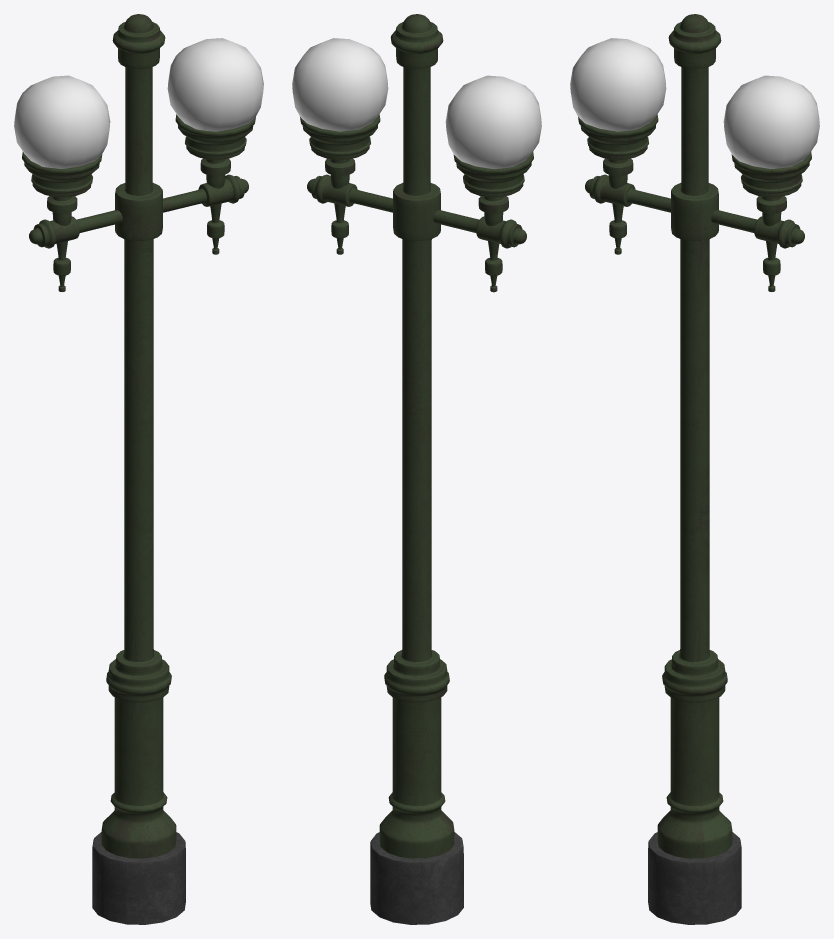
The model's file is PARK LIGHT.fbx.
3 views of the same model, side by side, from view 1: azimuth 30°, elevation 25°; view 2: azimuth 150°, elevation 25°; view 3: azimuth 330°, elevation 25° (orthographic).
Parts seen in each view (by area): view 1: PARK LIGHT.003; view 2: PARK LIGHT.003; view 3: PARK LIGHT.003.
Boxes of the visible parts, bbox=[...] form: PARK LIGHT.003: bbox=[14, 14, 263, 924]; PARK LIGHT.003: bbox=[292, 14, 541, 924]; PARK LIGHT.003: bbox=[570, 14, 819, 924].
Bounding box in the file's own units: 87.95 × 316 × 30.8.
